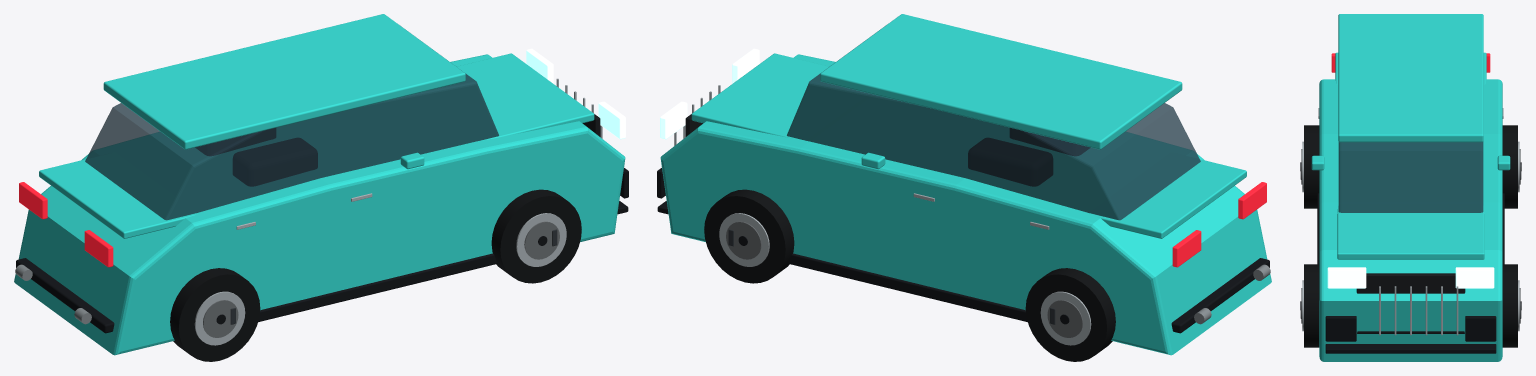
The model's file is ford_e_transit.glb.
3 renders of one model, left to right at view 1: azimuth 30°, elevation 25°; view 2: azimuth 150°, elevation 25°; view 3: azimuth 270°, elevation 25°, orthographic. The views are drawn at different scales.
Visible parts, largest first — view 1: sculpted_body, glasshouse, roof, hood_center, rear_deck, rear_right_wheel_tire, front_right_wheel_tire, side_skirt_1, seat_1, rear_diffuser, rear_right_wheel_rim, front_right_wheel_rim (+7 smaller); view 2: sculpted_body, glasshouse, roof, hood_center, rear_deck, rear_left_wheel_tire, front_left_wheel_tire, side_skirt_-1, seat_-1, rear_diffuser, rear_left_wheel_rim, front_left_wheel_rim (+7 smaller); view 3: sculpted_body, roof, glasshouse, hood_center, front_grille, front_splitter, front_left_wheel_tire, front_right_wheel_tire, rear_left_wheel_tire, rear_right_wheel_tire, headlight_right, headlight_left (+7 smaller).
Part boxes in pixels (x1,y1,x2,y2): sculpted_body: (14, 54, 625, 355); glasshouse: (85, 25, 498, 220); roof: (103, 14, 465, 149); hood_center: (417, 53, 594, 140); rear_deck: (39, 153, 198, 238); rear_right_wheel_tire: (170, 268, 260, 361); front_right_wheel_tire: (491, 189, 581, 283); side_skirt_1: (258, 253, 497, 322); seat_1: (233, 138, 317, 185); rear_diffuser: (16, 258, 114, 333); rear_right_wheel_rim: (194, 291, 245, 345); front_right_wheel_rim: (516, 213, 566, 266); sculpted_body: (660, 54, 1271, 355); glasshouse: (787, 25, 1200, 220); roof: (820, 14, 1182, 149); hood_center: (691, 53, 868, 140); rear_deck: (1087, 153, 1246, 238); rear_left_wheel_tire: (1025, 268, 1115, 361); front_left_wheel_tire: (704, 189, 794, 283); side_skirt_-1: (788, 253, 1027, 322); seat_-1: (968, 138, 1052, 185); rear_diffuser: (1171, 258, 1269, 333); rear_left_wheel_rim: (1040, 291, 1091, 345); front_left_wheel_rim: (719, 213, 769, 266); sculpted_body: (1319, 79, 1502, 361); roof: (1338, 14, 1483, 142); glasshouse: (1338, 142, 1483, 212); hood_center: (1337, 205, 1484, 259); front_grille: (1356, 273, 1465, 333); front_splitter: (1325, 344, 1496, 353); front_left_wheel_tire: (1502, 264, 1517, 347); front_right_wheel_tire: (1304, 264, 1319, 347); rear_left_wheel_tire: (1502, 125, 1517, 208); rear_right_wheel_tire: (1304, 125, 1319, 208); headlight_right: (1327, 267, 1366, 288); headlight_left: (1455, 267, 1494, 288).
Bounding box in the file's own units: 5.66 × 2.1 × 2.28.
